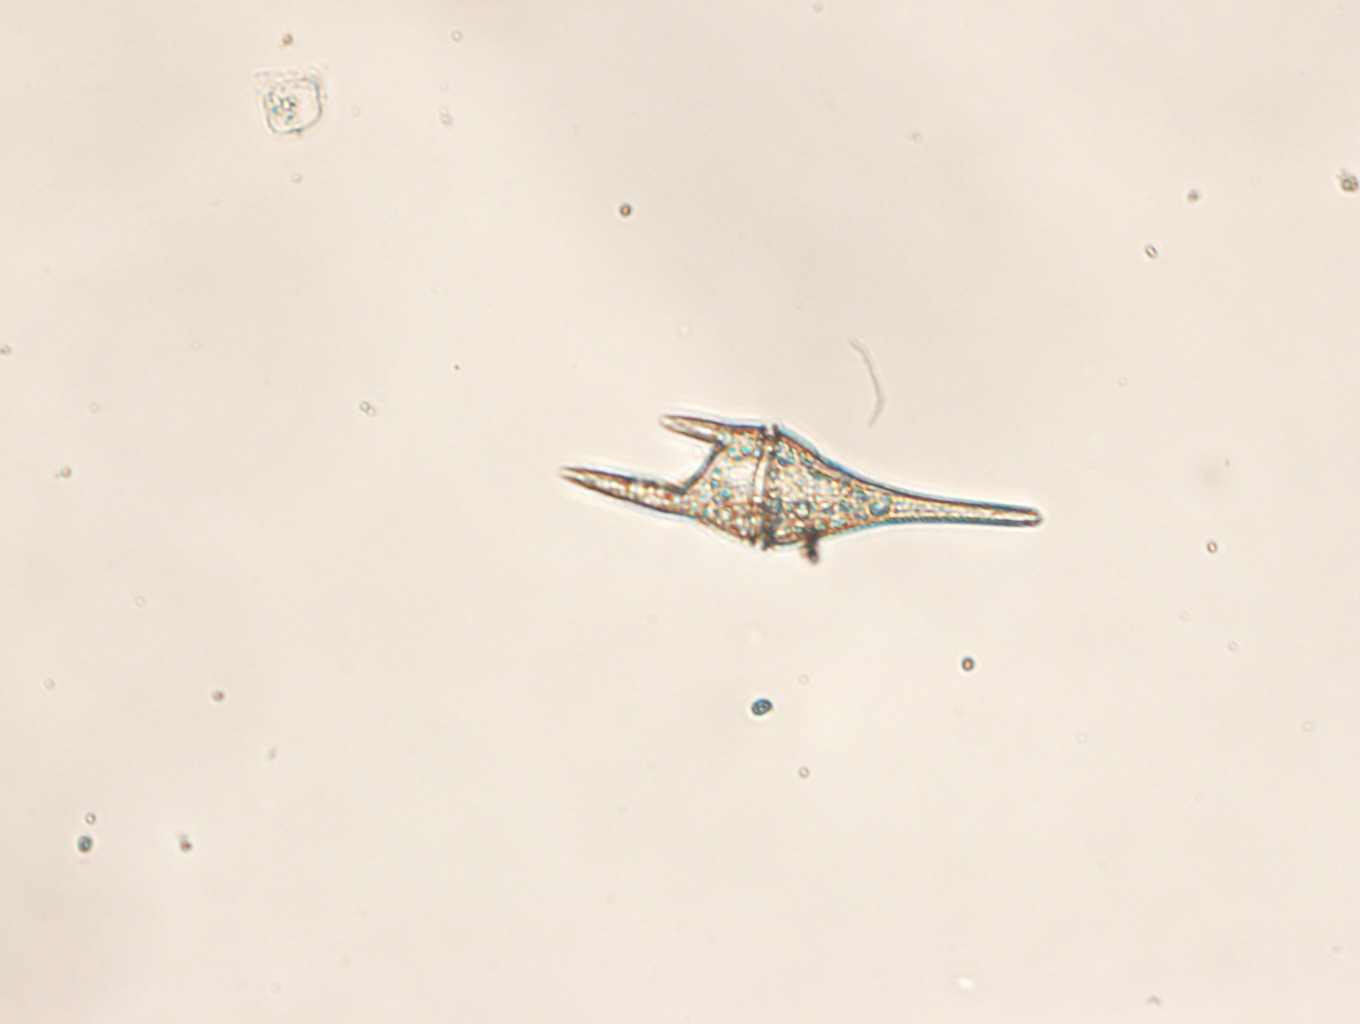ceratium furca: (555, 410, 1042, 549)
